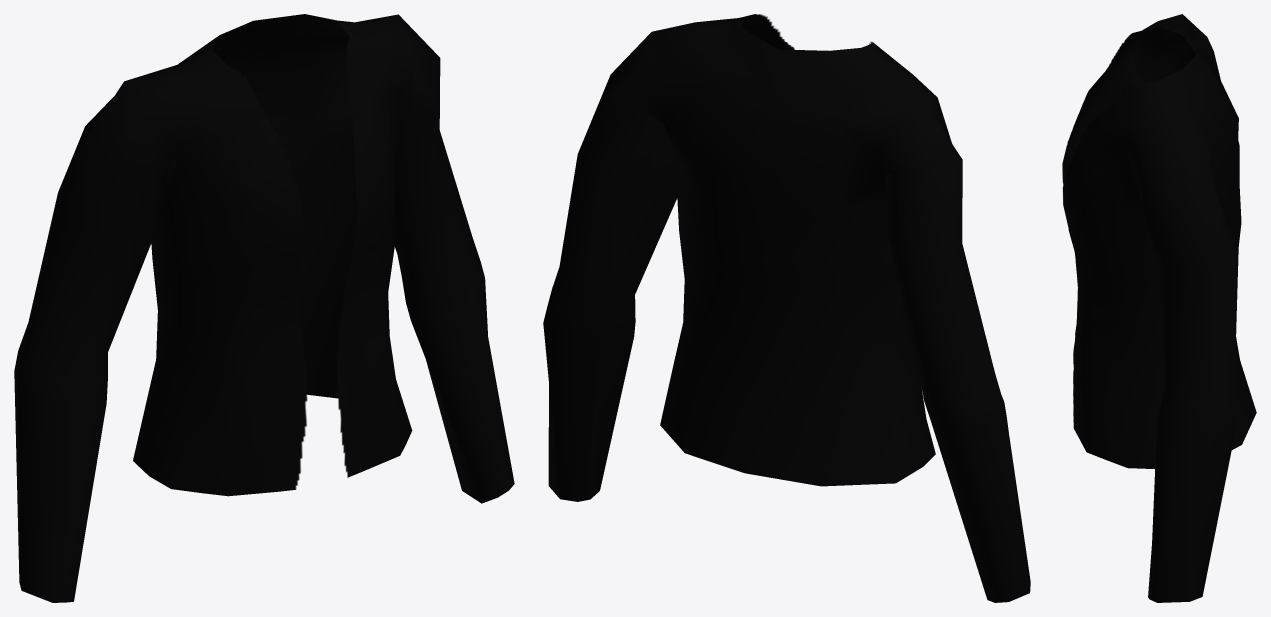
File: Camisa.glb
The picture shows the model from 3 angles, left to right: view 1: azimuth 30°, elevation 25°; view 2: azimuth 150°, elevation 25°; view 3: azimuth 270°, elevation 25°; orthographic projection. The views are drawn at different scales.
Visible parts, largest first — view 1: Camisa; view 2: Camisa; view 3: Camisa.
Boxes of the visible parts, left/top/right/bottom form: Camisa: left=14, top=14, right=514, bottom=602; Camisa: left=543, top=14, right=1030, bottom=602; Camisa: left=1062, top=14, right=1256, bottom=602.
Size of the model in its own units: 0.4768 by 0.4914 by 0.1915.
Materials: 1 (1 with a texture image).
